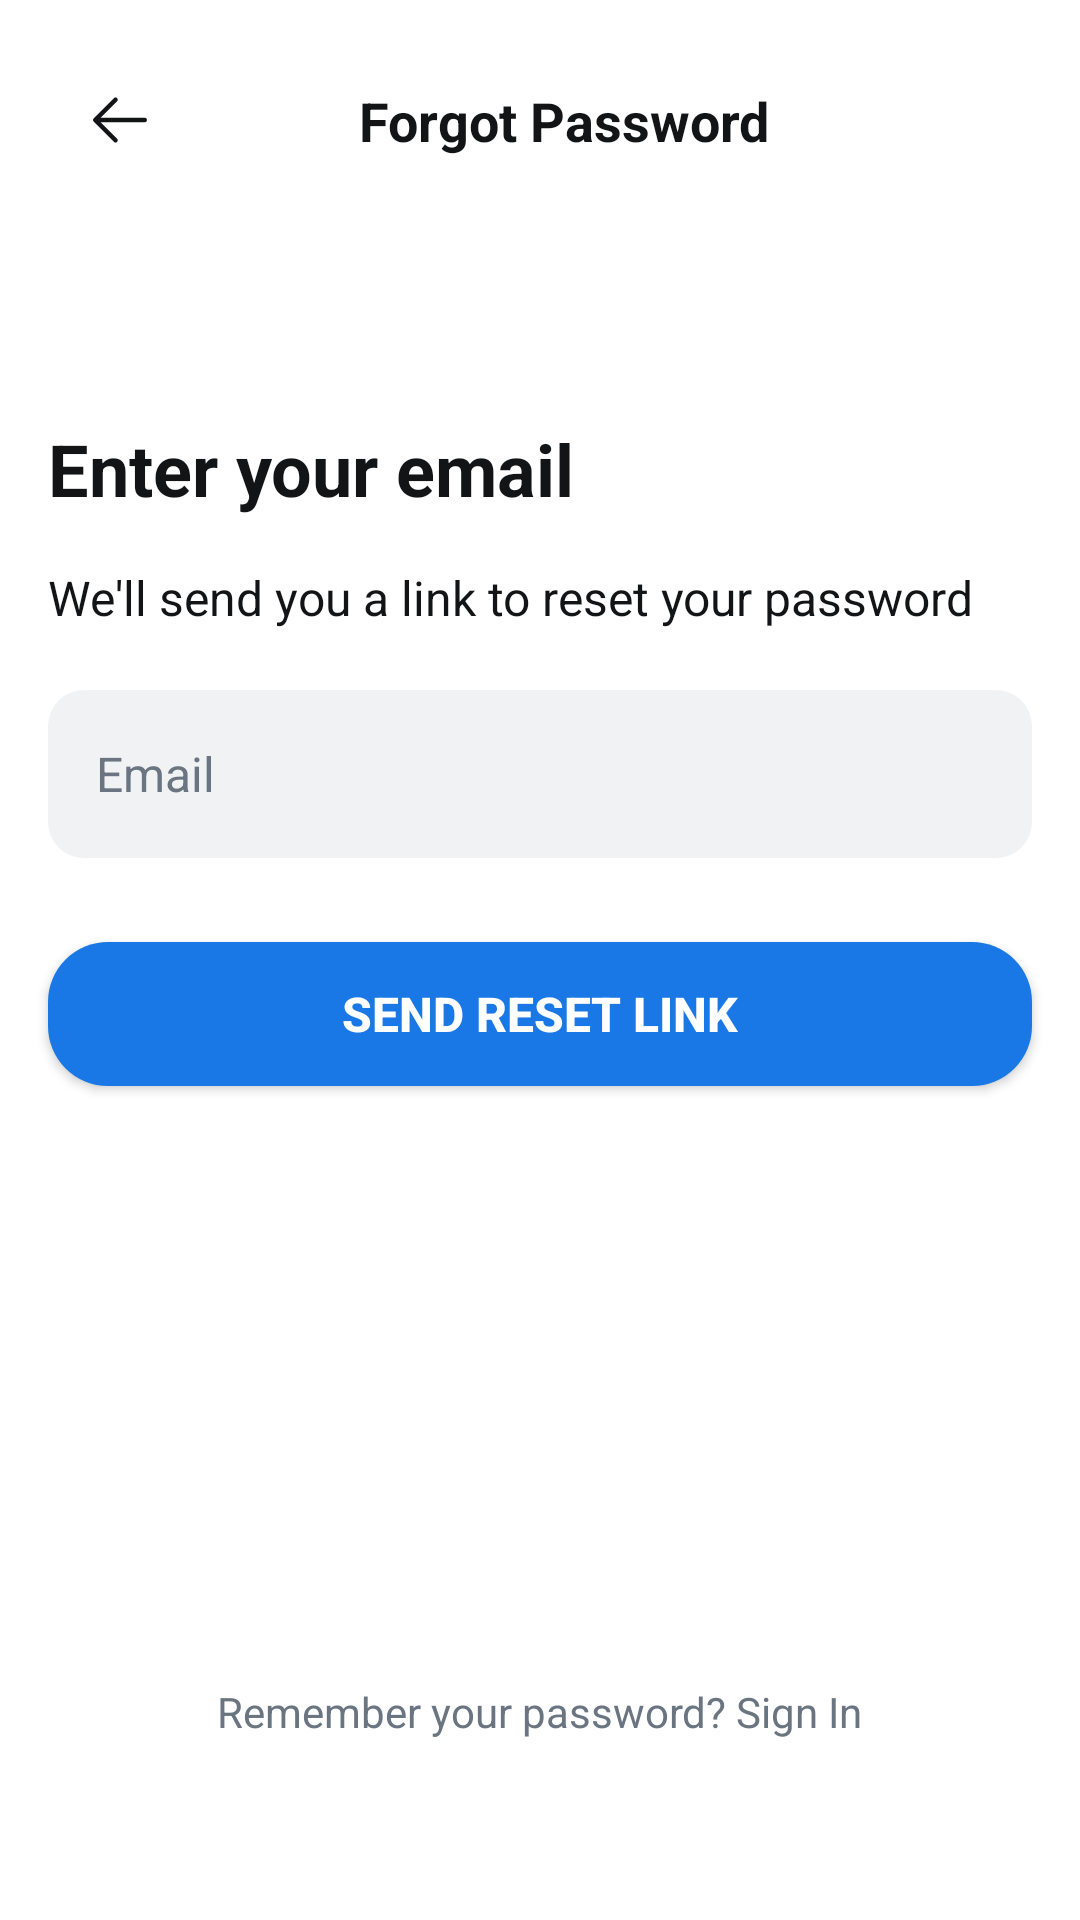

Point at icon controls on the screen. Image size 1080 x 1920, points as (x=x, y=y).
Back: (x=120, y=120)
